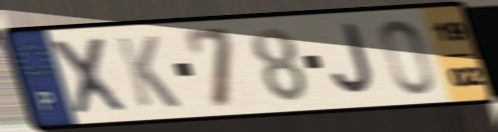0: (377, 16, 437, 97)
7: (182, 26, 240, 111)
8: (248, 23, 310, 106)
J: (329, 21, 378, 99)
K: (113, 33, 184, 110)
X: (46, 34, 133, 118)
